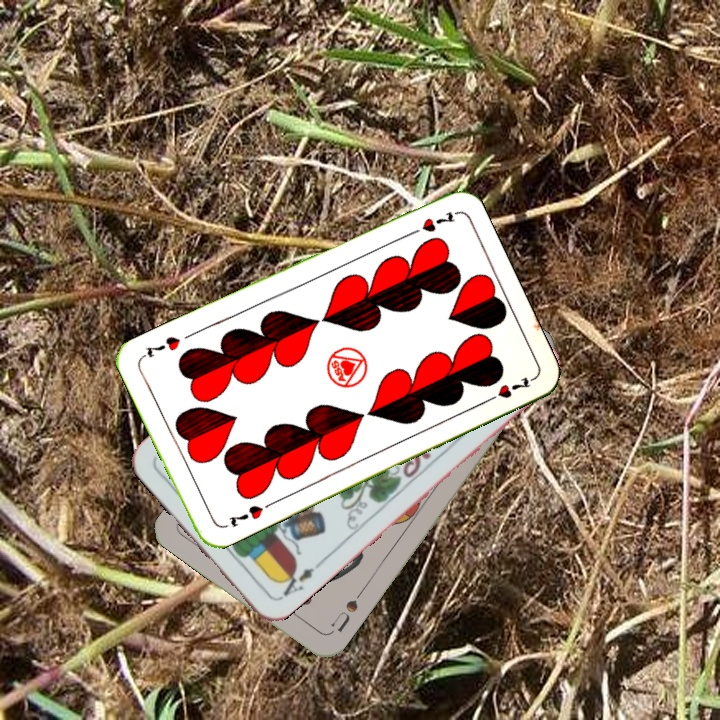EA: (274, 558, 324, 603)
H7: (402, 207, 458, 239), (225, 501, 266, 531)
SU: (326, 586, 366, 635)
